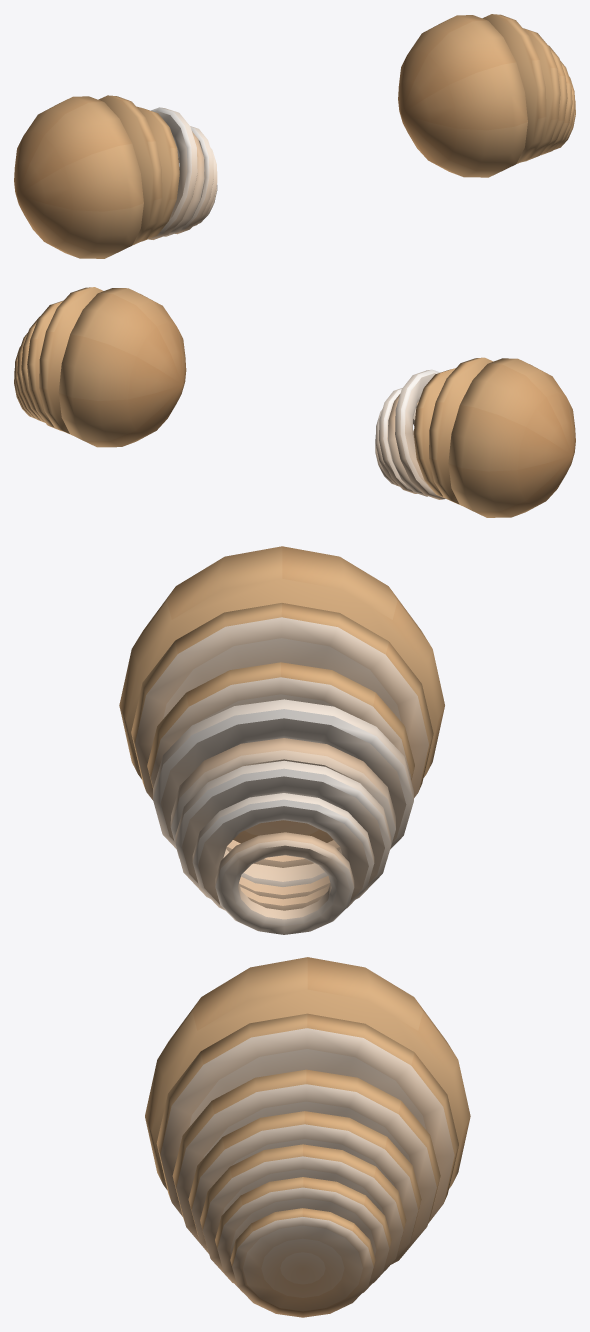
The model's file is onion_sliced.glb.
The picture shows the model from 3 angles, top to bottom: view 1: azimuth 30°, elevation 25°; view 2: azimuth 150°, elevation 25°; view 3: azimuth 270°, elevation 25°; orthographic projection. The views are drawn at different scales.
Visible parts, largest first — view 1: food_ingredient_onion_chopped, food_ingredient_onion_chopped.015, food_ingredient_onion_chopped.009, food_ingredient_onion_chopped.006, food_ingredient_onion_chopped.001, food_ingredient_onion_chopped.007, food_ingredient_onion_chopped.008, food_ingredient_onion_chopped.003, food_ingredient_onion_chopped.004, food_ingredient_onion_chopped.010, food_ingredient_onion_chopped.011, food_ingredient_onion_chopped.005; view 2: food_ingredient_onion_chopped, food_ingredient_onion_chopped.015, food_ingredient_onion_chopped.009, food_ingredient_onion_chopped.006, food_ingredient_onion_chopped.001, food_ingredient_onion_chopped.007, food_ingredient_onion_chopped.008, food_ingredient_onion_chopped.003, food_ingredient_onion_chopped.004, food_ingredient_onion_chopped.010, food_ingredient_onion_chopped.011, food_ingredient_onion_chopped.005; view 3: food_ingredient_onion_chopped.006, food_ingredient_onion_chopped, food_ingredient_onion_chopped.015, food_ingredient_onion_chopped.009, food_ingredient_onion_chopped.008, food_ingredient_onion_chopped.001, food_ingredient_onion_chopped.013, food_ingredient_onion_chopped.007, food_ingredient_onion_chopped.003, food_ingredient_onion_chopped.010, food_ingredient_onion_chopped.005, food_ingredient_onion_chopped.011 (+3 smaller).
Part boxes in pixels (x1,y1,x2,y2): food_ingredient_onion_chopped: [14, 96, 143, 258]; food_ingredient_onion_chopped.015: [398, 15, 527, 177]; food_ingredient_onion_chopped.009: [482, 14, 546, 163]; food_ingredient_onion_chopped.006: [98, 95, 162, 244]; food_ingredient_onion_chopped.001: [148, 107, 197, 239]; food_ingredient_onion_chopped.007: [136, 106, 179, 241]; food_ingredient_onion_chopped.008: [520, 28, 560, 162]; food_ingredient_onion_chopped.003: [175, 126, 213, 234]; food_ingredient_onion_chopped.004: [164, 131, 204, 236]; food_ingredient_onion_chopped.010: [541, 45, 567, 154]; food_ingredient_onion_chopped.011: [540, 61, 572, 155]; food_ingredient_onion_chopped.005: [177, 148, 217, 226]; food_ingredient_onion_chopped: [448, 358, 575, 517]; food_ingredient_onion_chopped.015: [58, 288, 186, 447]; food_ingredient_onion_chopped.009: [39, 287, 103, 434]; food_ingredient_onion_chopped.006: [429, 357, 493, 504]; food_ingredient_onion_chopped.001: [395, 369, 445, 499]; food_ingredient_onion_chopped.007: [413, 368, 455, 497]; food_ingredient_onion_chopped.008: [27, 300, 63, 431]; food_ingredient_onion_chopped.003: [379, 388, 417, 493]; food_ingredient_onion_chopped.004: [388, 394, 427, 496]; food_ingredient_onion_chopped.010: [21, 316, 45, 422]; food_ingredient_onion_chopped.011: [17, 333, 40, 420]; food_ingredient_onion_chopped.005: [375, 408, 416, 486]; food_ingredient_onion_chopped.006: [131, 603, 433, 799]; food_ingredient_onion_chopped: [119, 546, 444, 779]; food_ingredient_onion_chopped.015: [145, 957, 470, 1190]; food_ingredient_onion_chopped.009: [156, 1013, 458, 1223]; food_ingredient_onion_chopped.008: [172, 1069, 440, 1264]; food_ingredient_onion_chopped.001: [153, 699, 413, 867]; food_ingredient_onion_chopped.013: [230, 1208, 375, 1317]; food_ingredient_onion_chopped.007: [147, 662, 414, 843]; food_ingredient_onion_chopped.003: [175, 760, 391, 899]; food_ingredient_onion_chopped.010: [188, 1111, 421, 1270]; food_ingredient_onion_chopped.005: [192, 793, 374, 910]; food_ingredient_onion_chopped.011: [200, 1144, 406, 1283].
Size of the model in its own units: 2.96 by 0.8632 by 0.8278.
1 material, 1 textured.
